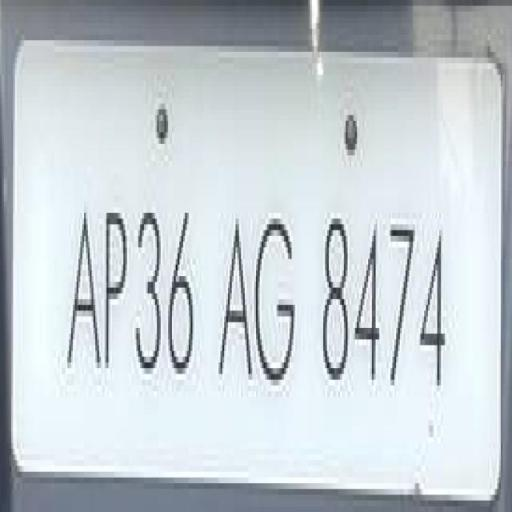number plate: (3, 29, 486, 495)
